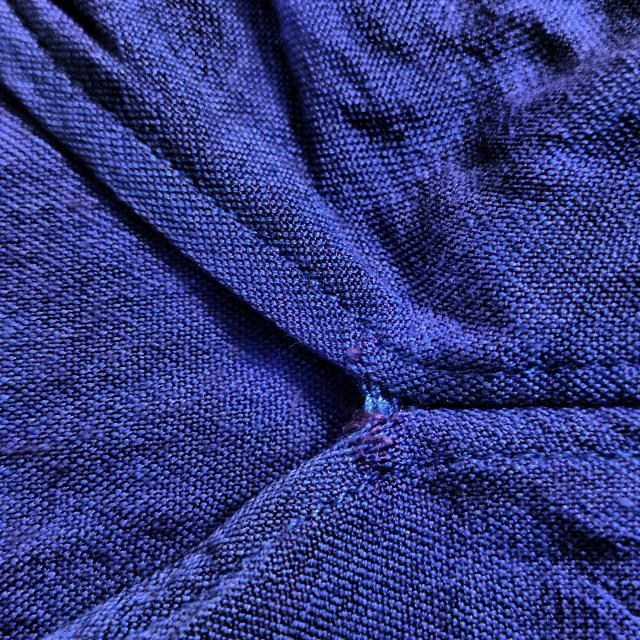gray stitch: (316, 349, 423, 511)
